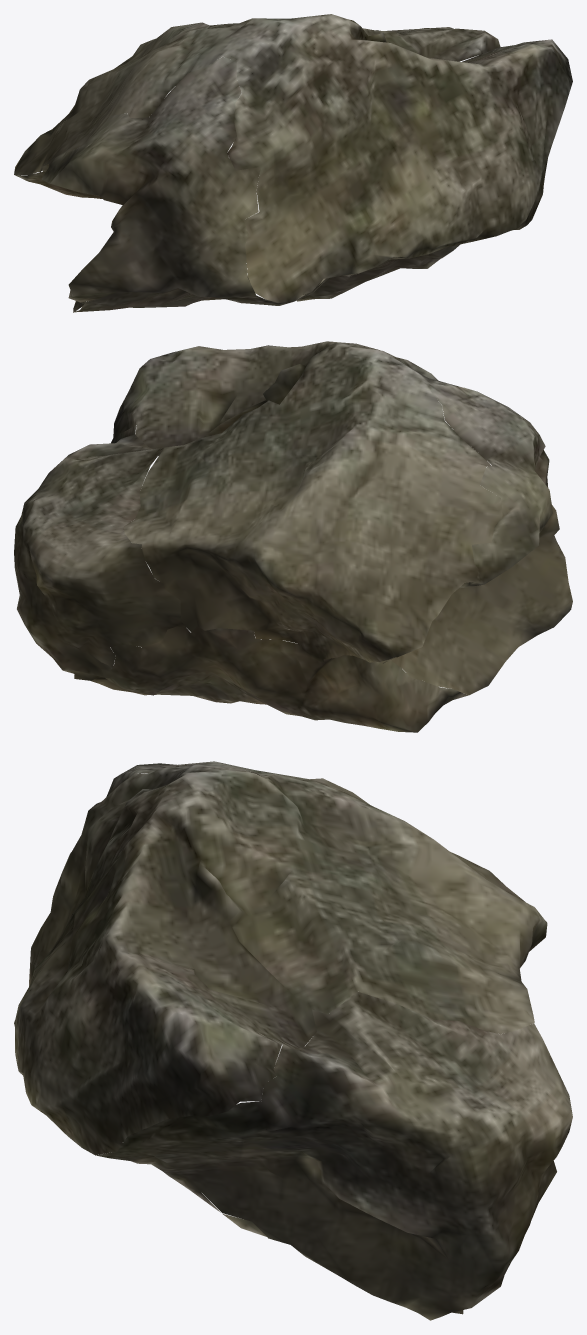
Rendered from rock-moss-set-02-rock11.glb.
3 views of the same model, one above another, from view 1: azimuth 30°, elevation 25°; view 2: azimuth 150°, elevation 25°; view 3: azimuth 270°, elevation 25° (orthographic). The views are drawn at different scales.
Parts seen in each view (by area): view 1: rock_moss_set_02_rock11; view 2: rock_moss_set_02_rock11; view 3: rock_moss_set_02_rock11.
Boxes of the visible parts, left/top/right/bottom form: rock_moss_set_02_rock11: left=14, top=14, right=572, bottom=312; rock_moss_set_02_rock11: left=14, top=341, right=572, bottom=732; rock_moss_set_02_rock11: left=14, top=761, right=572, bottom=1320.
Size of the model in its own units: 1.95 by 1.3 by 1.53.
Materials: 1 (1 with a texture image).
